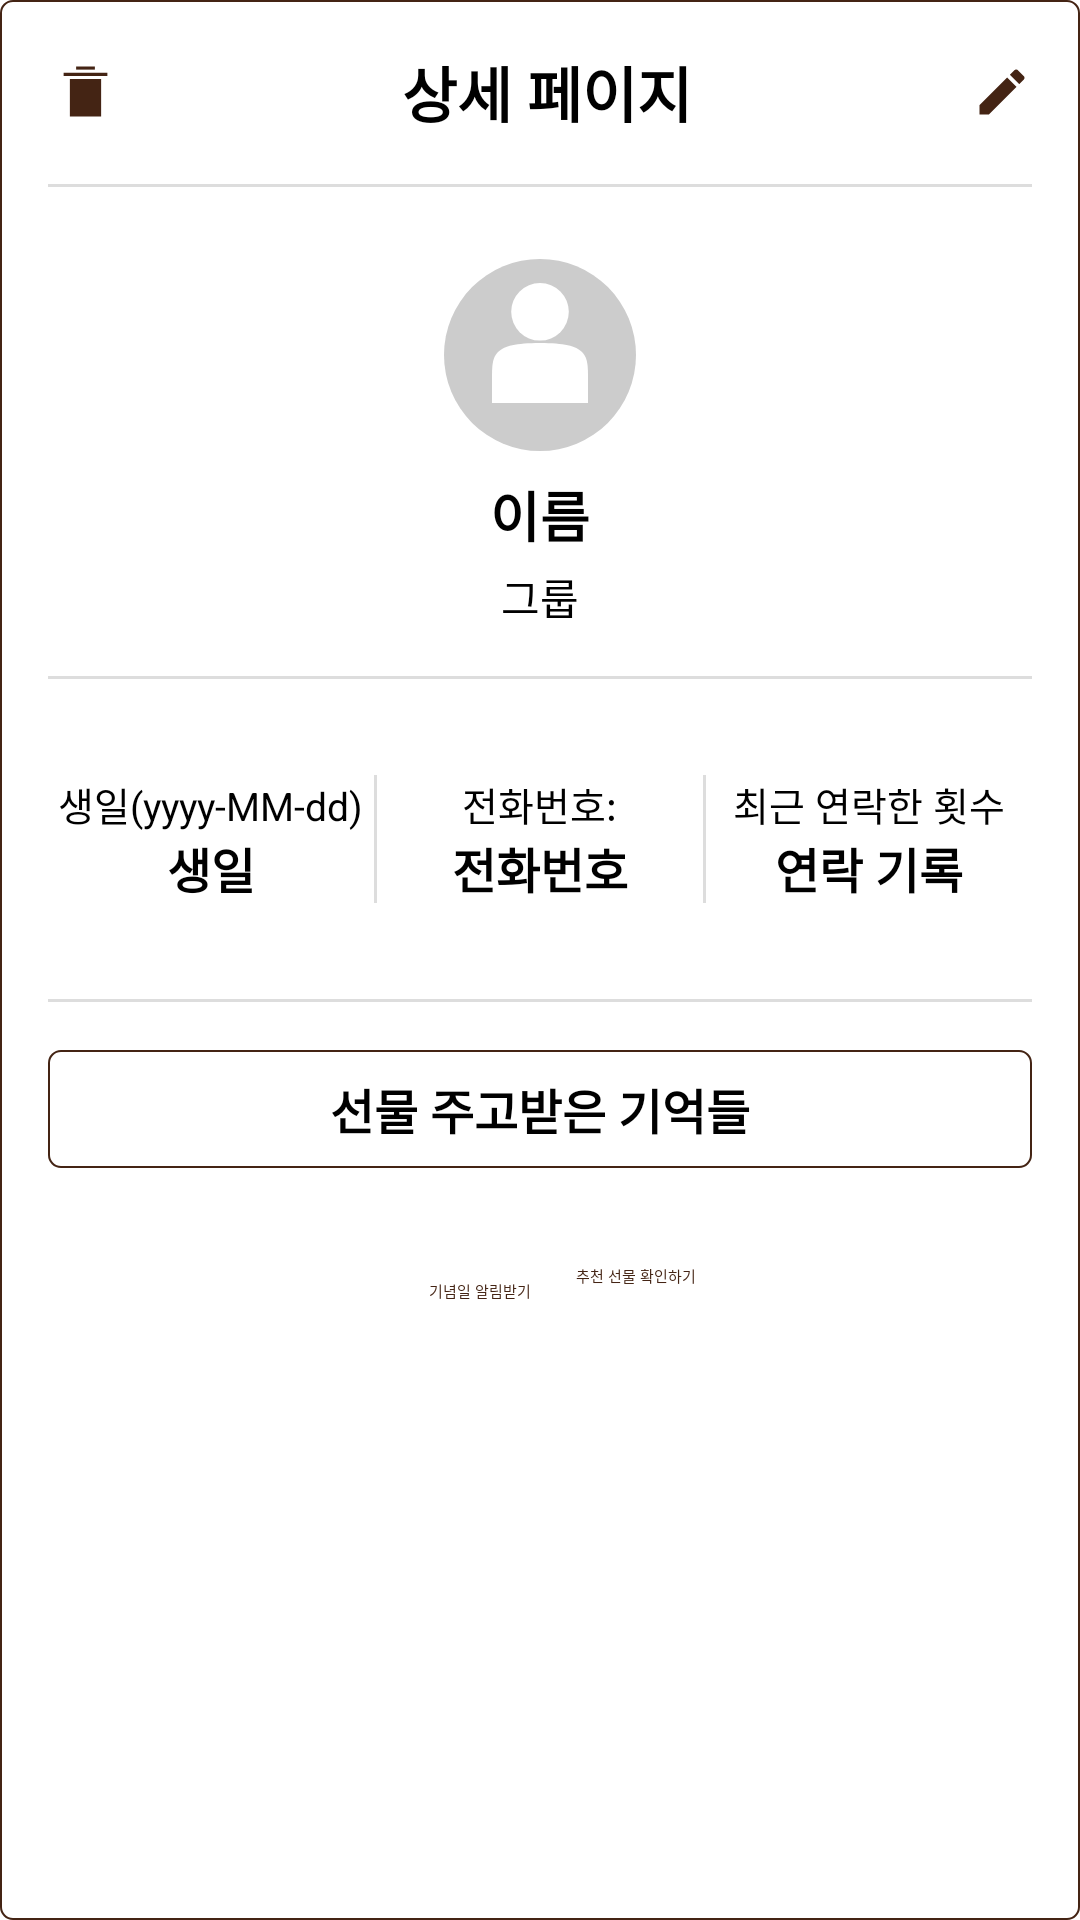

Named icons in this screenshot (1080×1920) and their bounding boxes, rect(x1, y1, x2, y2):
Profile Image: rect(444, 259, 636, 451)
삭제 버튼: rect(63, 66, 108, 117)
수정버튼: rect(979, 69, 1025, 115)
